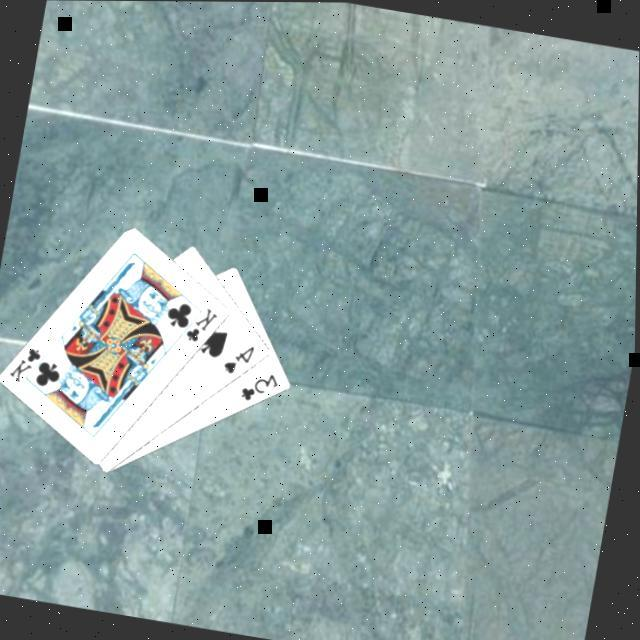3C: (240, 366, 286, 408)
4S: (222, 338, 262, 379)
KC: (178, 299, 226, 347), (8, 341, 56, 388)
